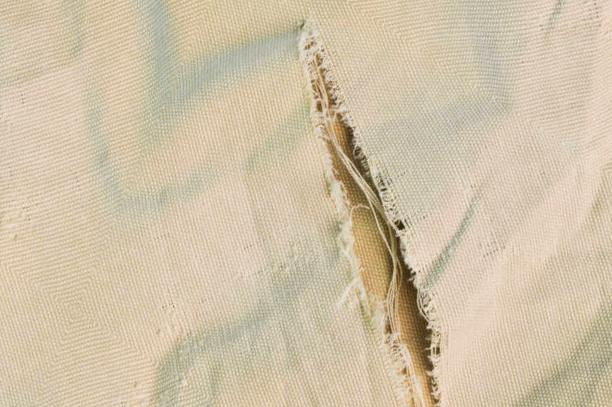hole: (292, 14, 449, 404)
